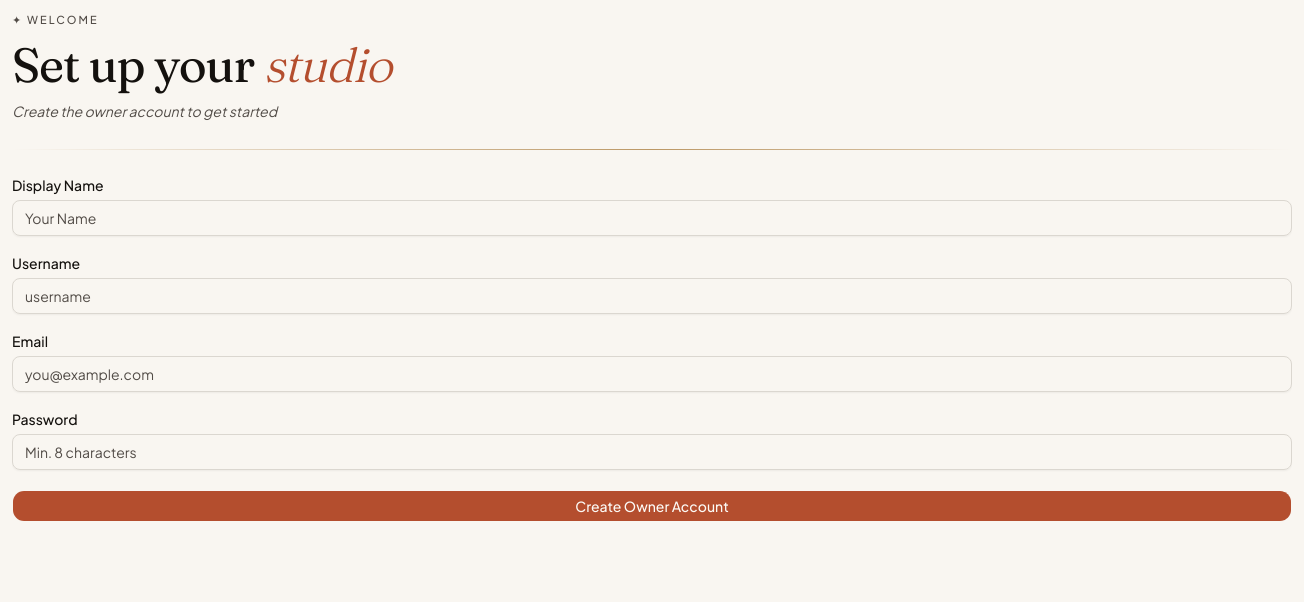
SetupForm › shows error message when signUp fails
Type "Owner User" into the field labelled "Display Name" at (652, 218), box [12,200,1292,236]
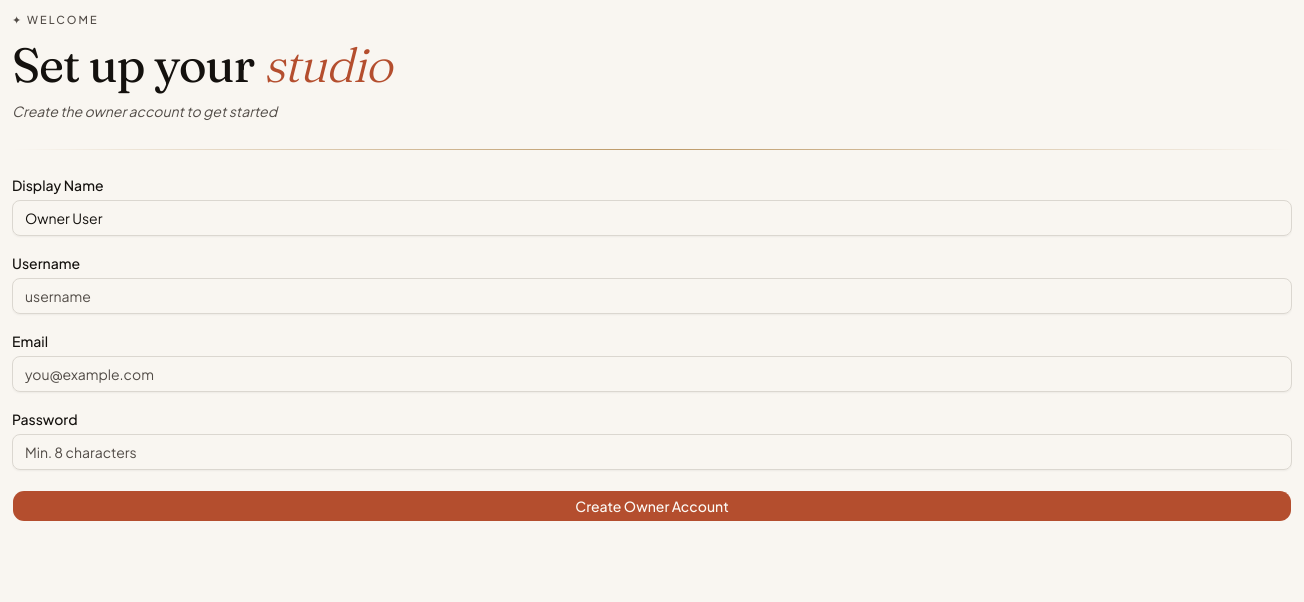
Type "owneruser" into the field labelled "Username" at (652, 296), box [12,278,1292,314]
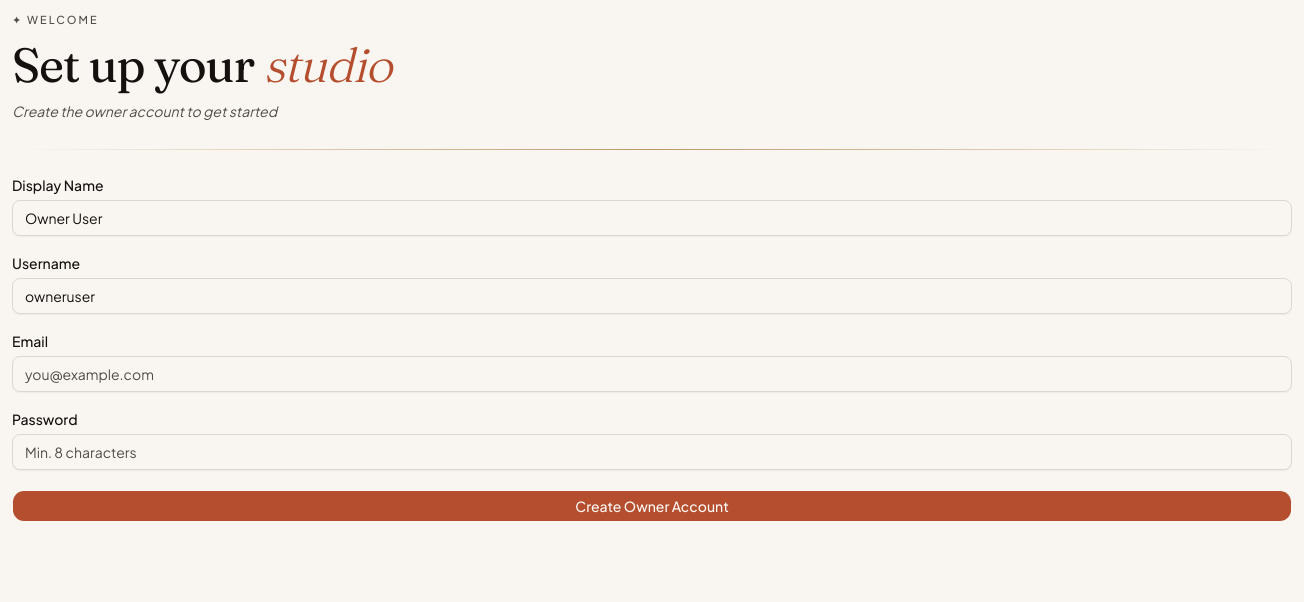
Type "owner@test.com" into the field labelled "Email" at (652, 374), box [12,356,1292,392]
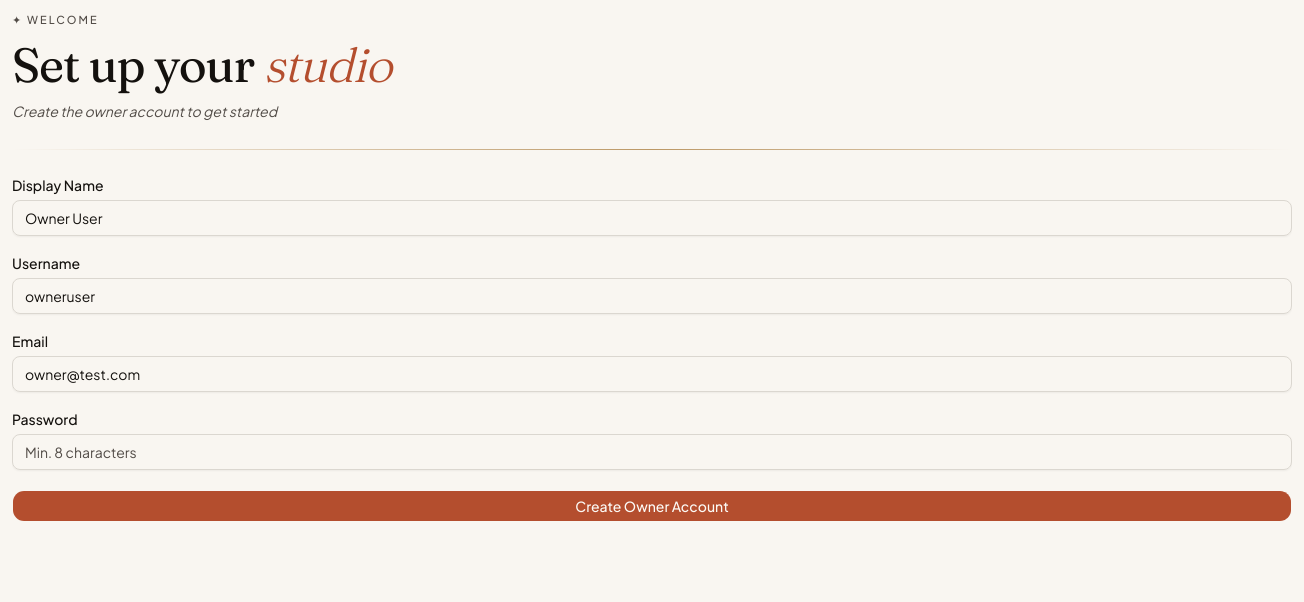
Type "password123" into the password field labelled "Password" at (652, 452), box [12,434,1292,470]
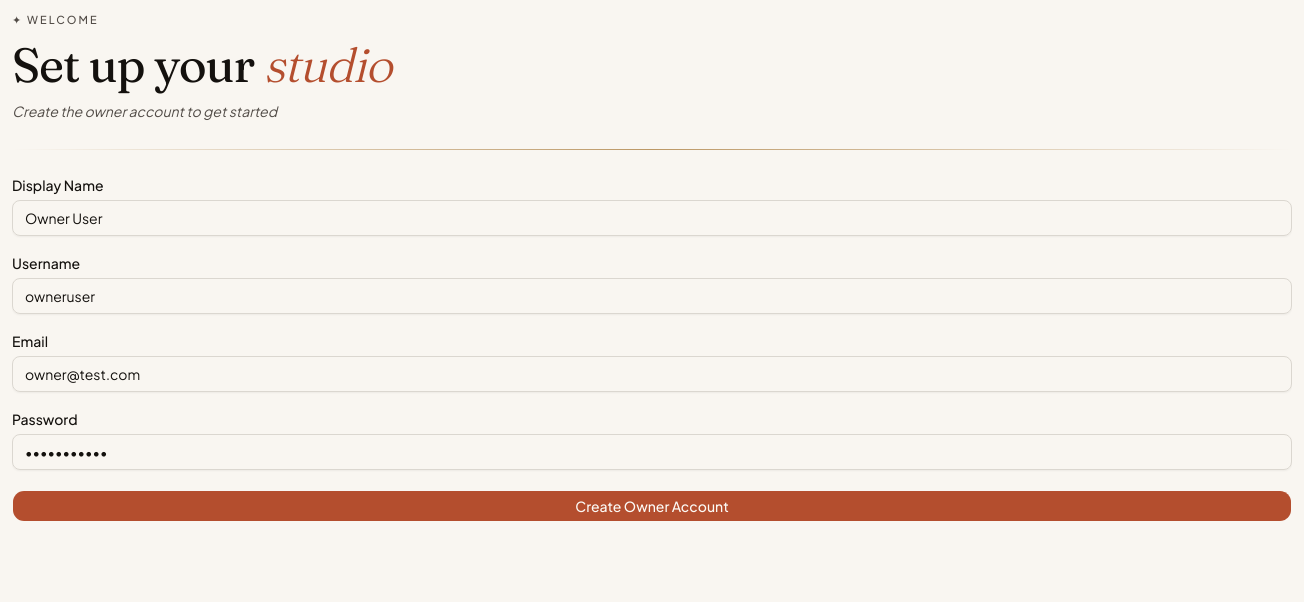
Click the button "Create Owner Account" at (652, 506), box [12,490,1292,522]
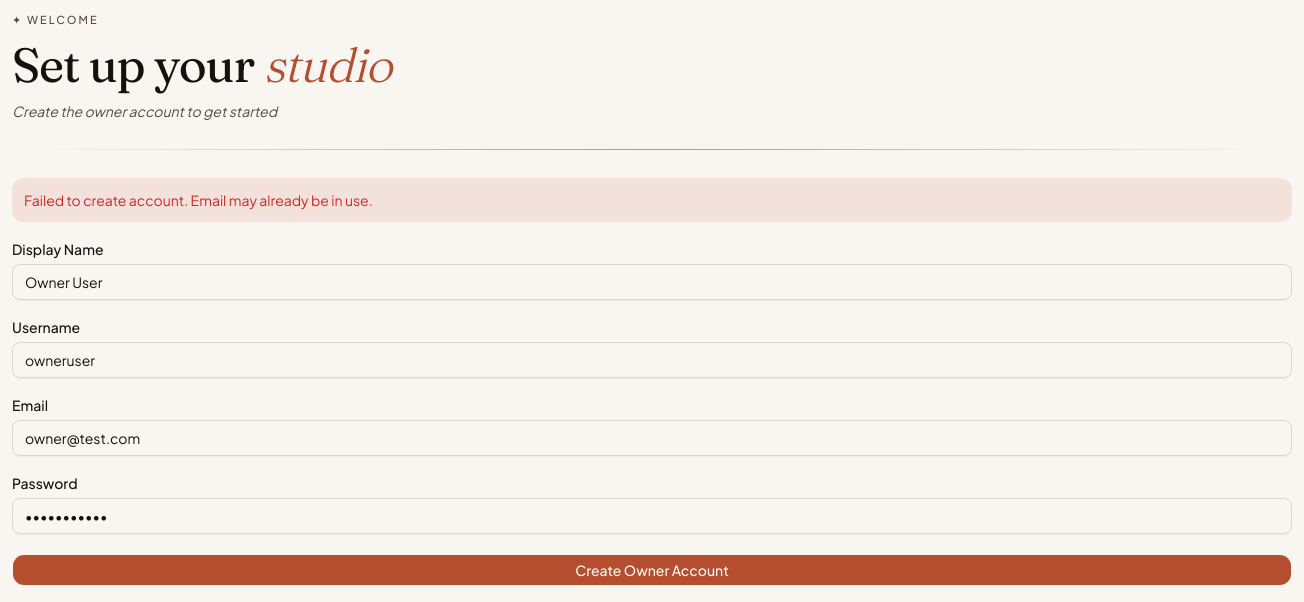
Expected: the text "Failed to create account. Email may already be in use." is shown, [12,178,1292,222]
